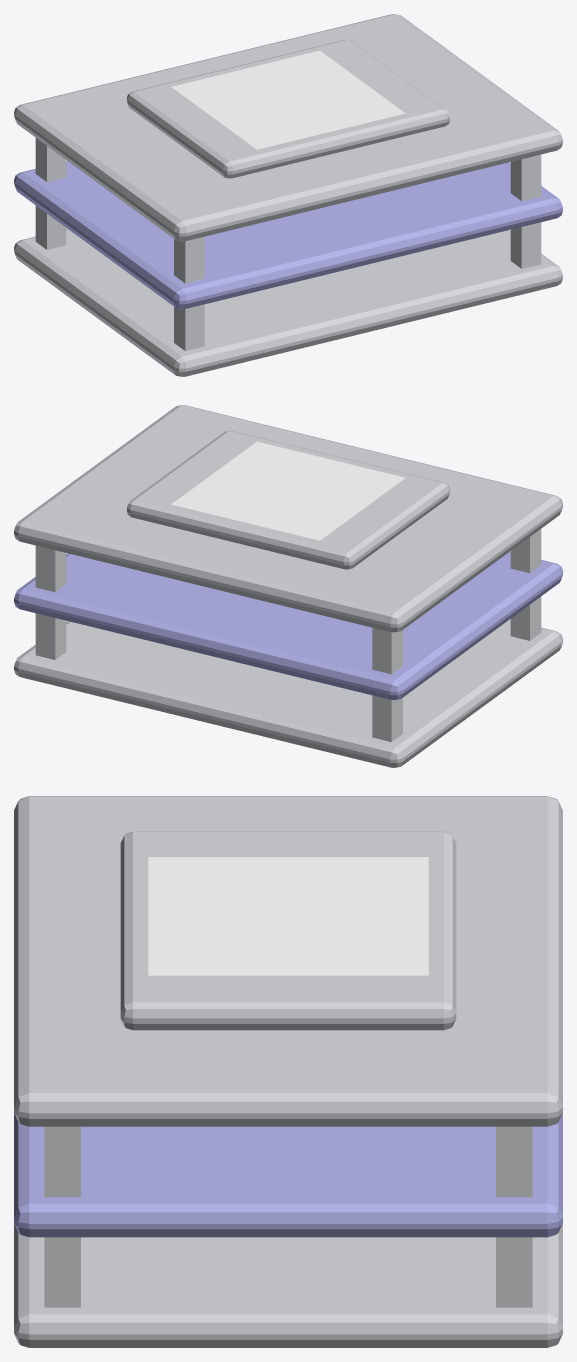
File: system.glb
The picture shows the model from 3 angles, top to bottom: view 1: azimuth 30°, elevation 25°; view 2: azimuth 150°, elevation 25°; view 3: azimuth 270°, elevation 25°; orthographic projection. The views are drawn at different scales.
Parts seen in each view (by area): view 1: sys_p2, sys_p1, sys_p0, sys_card, sys_logo, sys_posts; view 2: sys_p2, sys_p1, sys_p0, sys_card, sys_logo, sys_posts; view 3: sys_p2, sys_p1, sys_p0, sys_card, sys_logo, sys_posts.
Boxes of the visible parts, <box> form: sys_p2: <box>14,14,562,241</box>; sys_p1: <box>14,161,562,309</box>; sys_p0: <box>14,229,562,376</box>; sys_card: <box>127,39,449,178</box>; sys_logo: <box>171,50,405,149</box>; sys_posts: <box>35,138,541,350</box>; sys_p2: <box>14,405,562,632</box>; sys_p1: <box>14,552,562,700</box>; sys_p0: <box>14,620,562,767</box>; sys_card: <box>127,430,449,569</box>; sys_logo: <box>171,441,405,540</box>; sys_posts: <box>35,529,541,741</box>; sys_p2: <box>14,796,562,1126</box>; sys_p1: <box>14,1113,562,1237</box>; sys_p0: <box>14,1223,562,1347</box>; sys_card: <box>120,831,456,1030</box>; sys_logo: <box>148,857,428,975</box>; sys_posts: <box>44,1126,532,1307</box>.
Size of the model in its own units: 1.2 by 0.5115 by 0.9.
